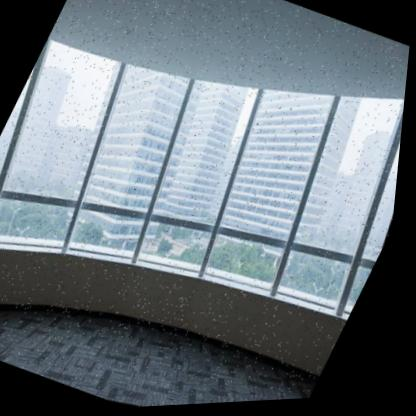Window: (0, 0, 416, 398)
